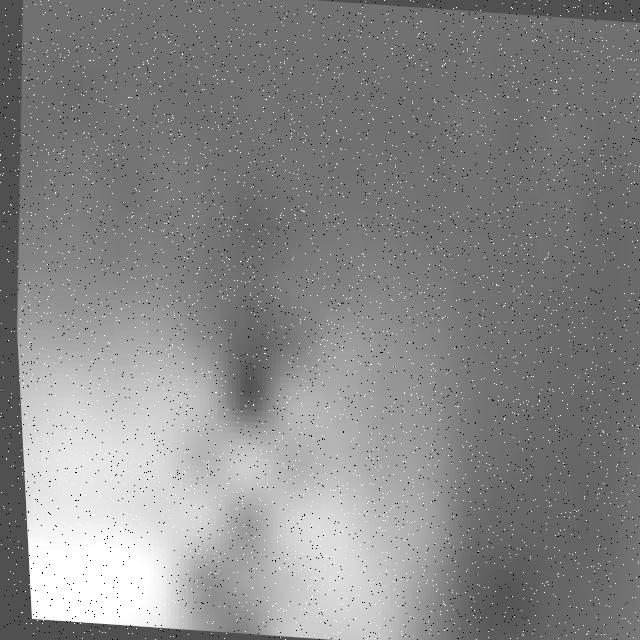person: (227, 291, 475, 640), (12, 269, 231, 632)
